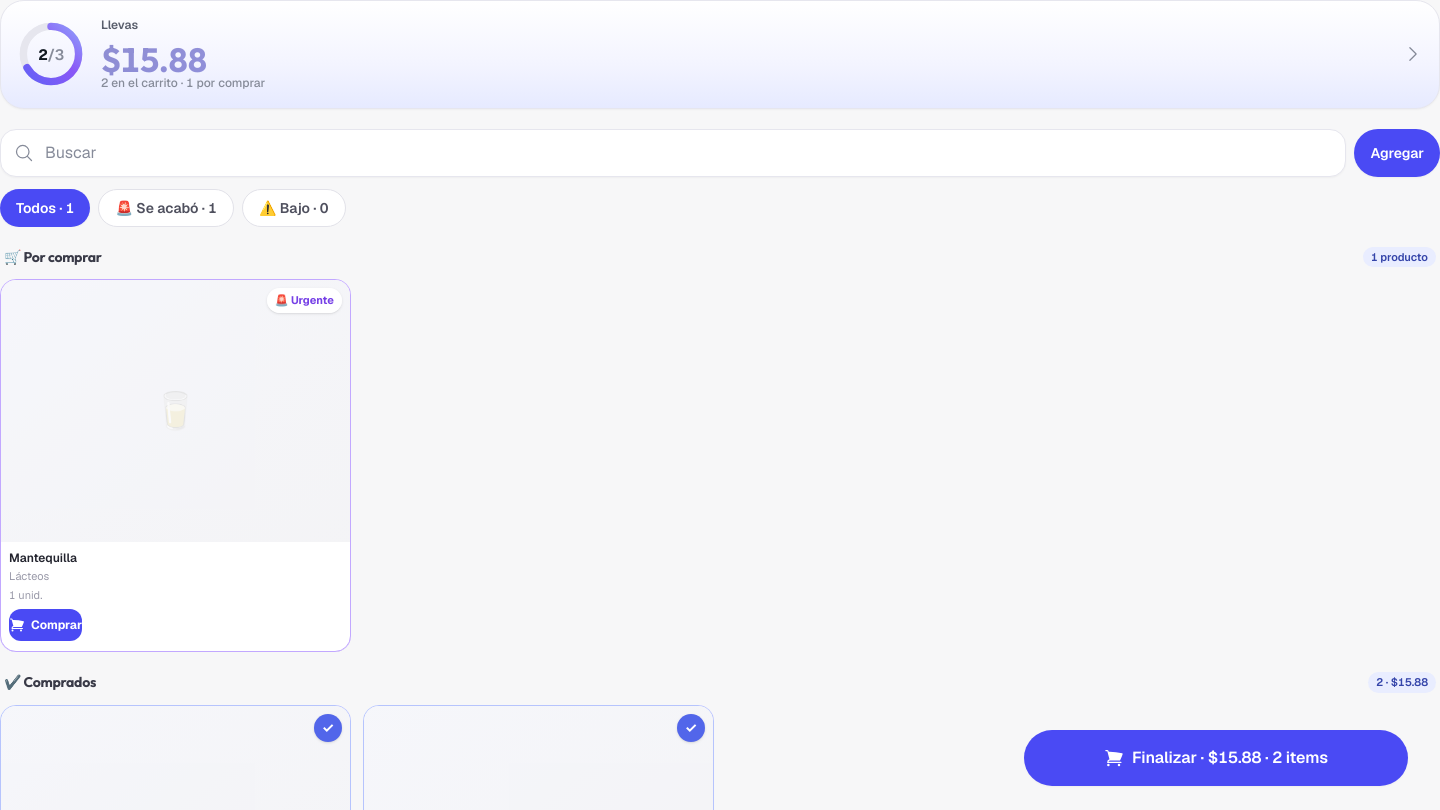
Test: SupermarketView · el carrito › el total del carrito es un botón que enseña lo ya comprado
Click the button with aria-label "Ver el carrito" at (720, 54), box x1=1 y1=1 x2=1439 y2=108
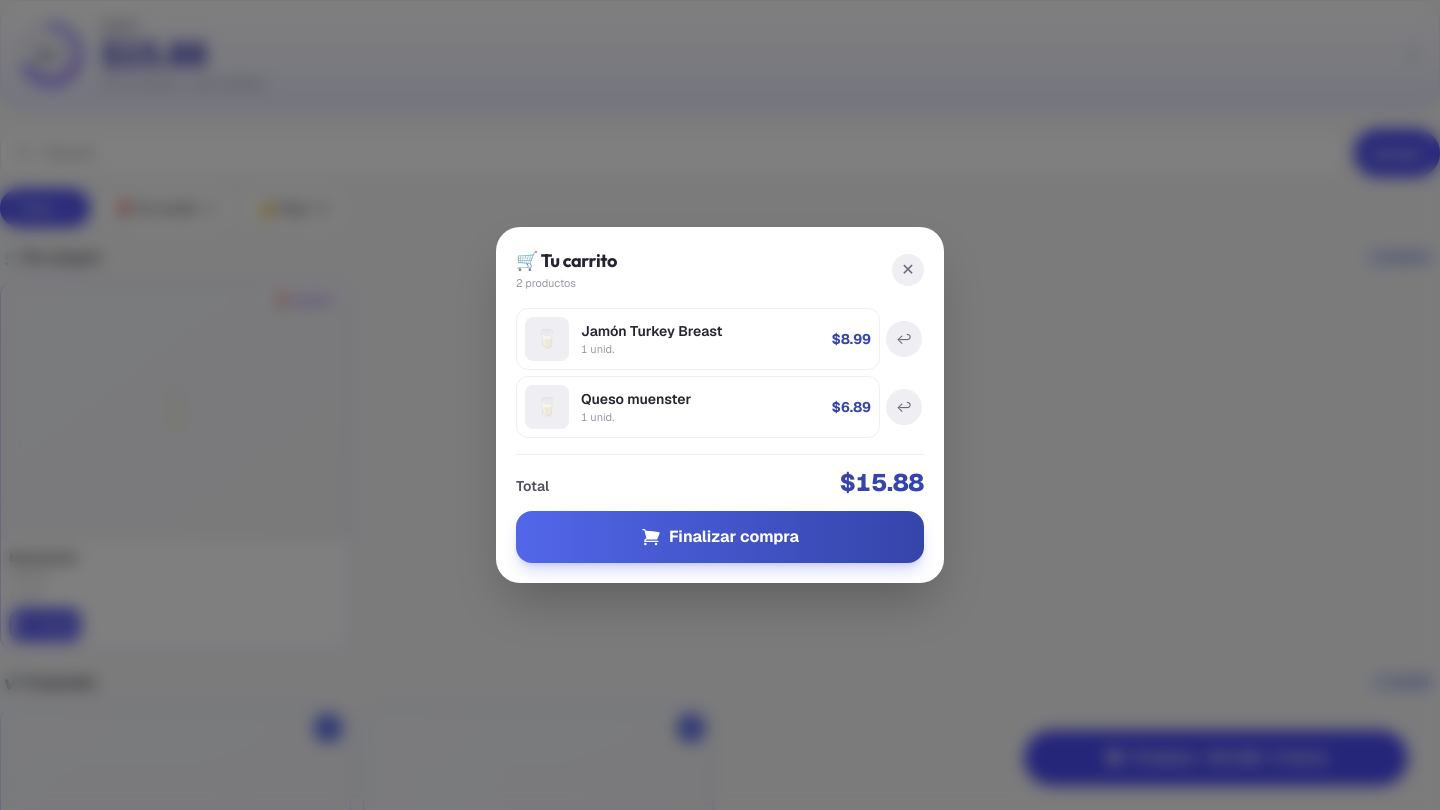
Now the text "Queso muenster" is shown, box x1=581 y1=390 x2=691 y2=408
Now the text "Jamón Turkey Breast" is shown, box x1=581 y1=322 x2=723 y2=340
Now the text "$6.89" is shown, box x1=832 y1=397 x2=871 y2=417
